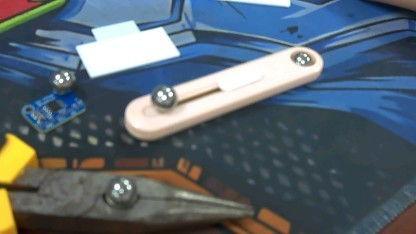ironball: (101, 174, 142, 206), (149, 82, 176, 111), (289, 46, 315, 70), (49, 67, 75, 88)
